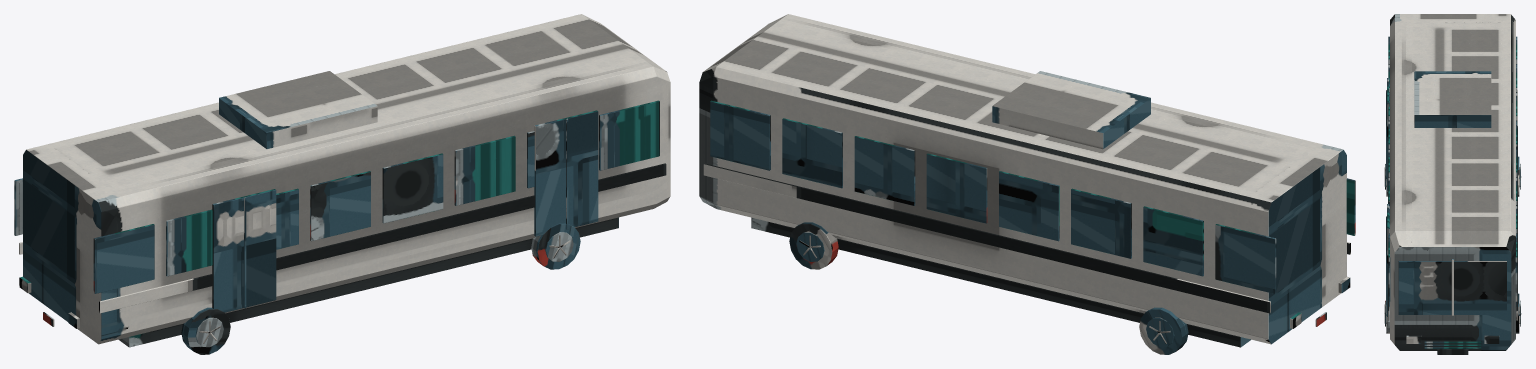
File: city_bus.obj
3 renders of one model, left to right at view 1: azimuth 30°, elevation 25°; view 2: azimuth 150°, elevation 25°; view 3: azimuth 270°, elevation 25°, orthographic. The views are drawn at different scales.
Visible parts, largest first — view 1: city_bus; view 2: city_bus; view 3: city_bus.
Boxes of the visible parts, box(x1,y1,x2,y2) form: city_bus: box(14, 14, 670, 354); city_bus: box(699, 14, 1355, 354); city_bus: box(1384, 14, 1521, 354).
Bounding box in the file's own units: 10.62 × 3.28 × 2.67.
Materials: 1 (1 with a texture image).
